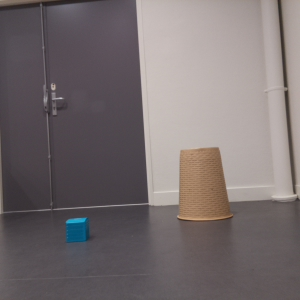medium: (176, 146, 233, 221)
small: (65, 218, 89, 242)
